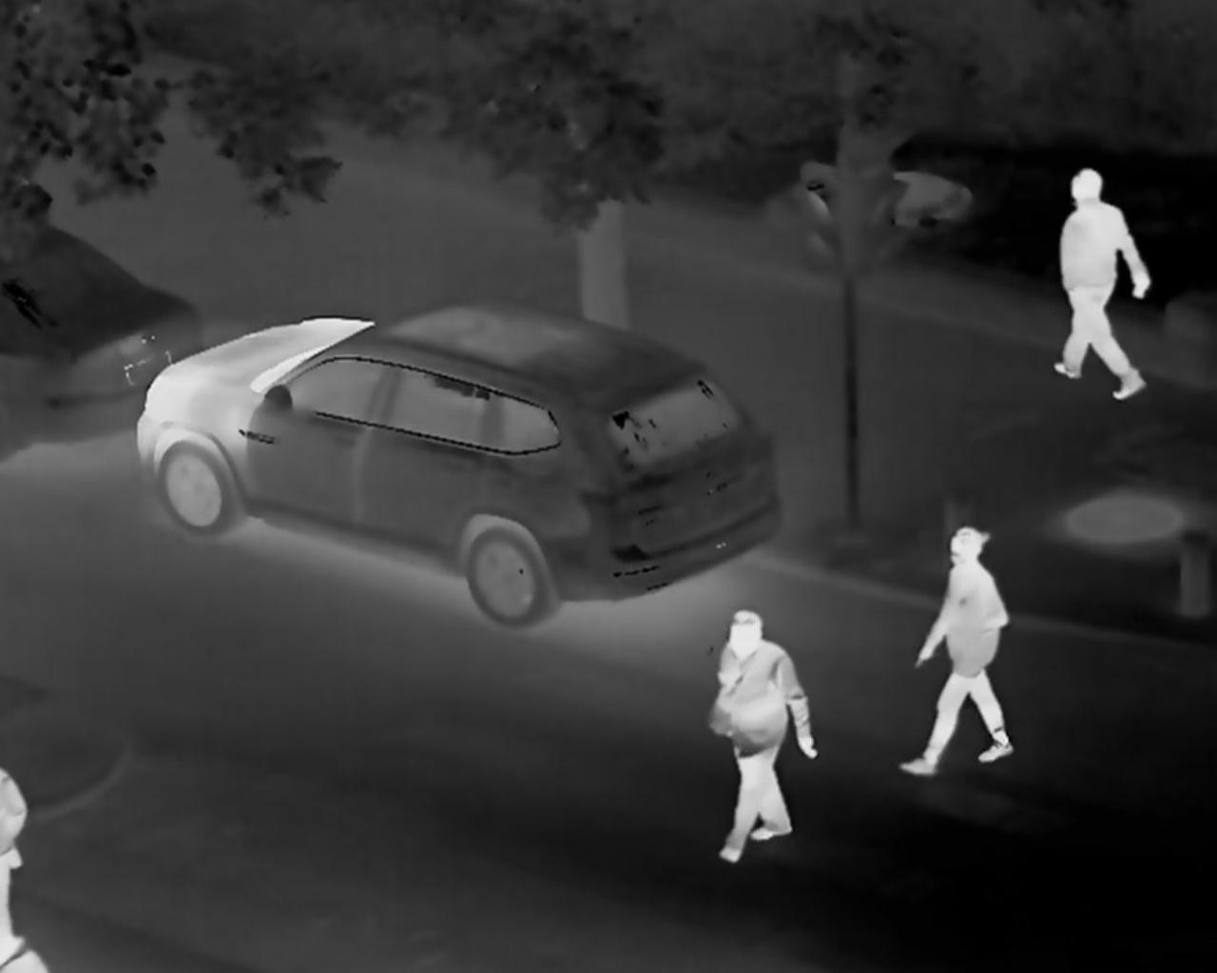person: (920, 520, 1041, 810), (694, 588, 821, 860), (1048, 162, 1167, 378)
